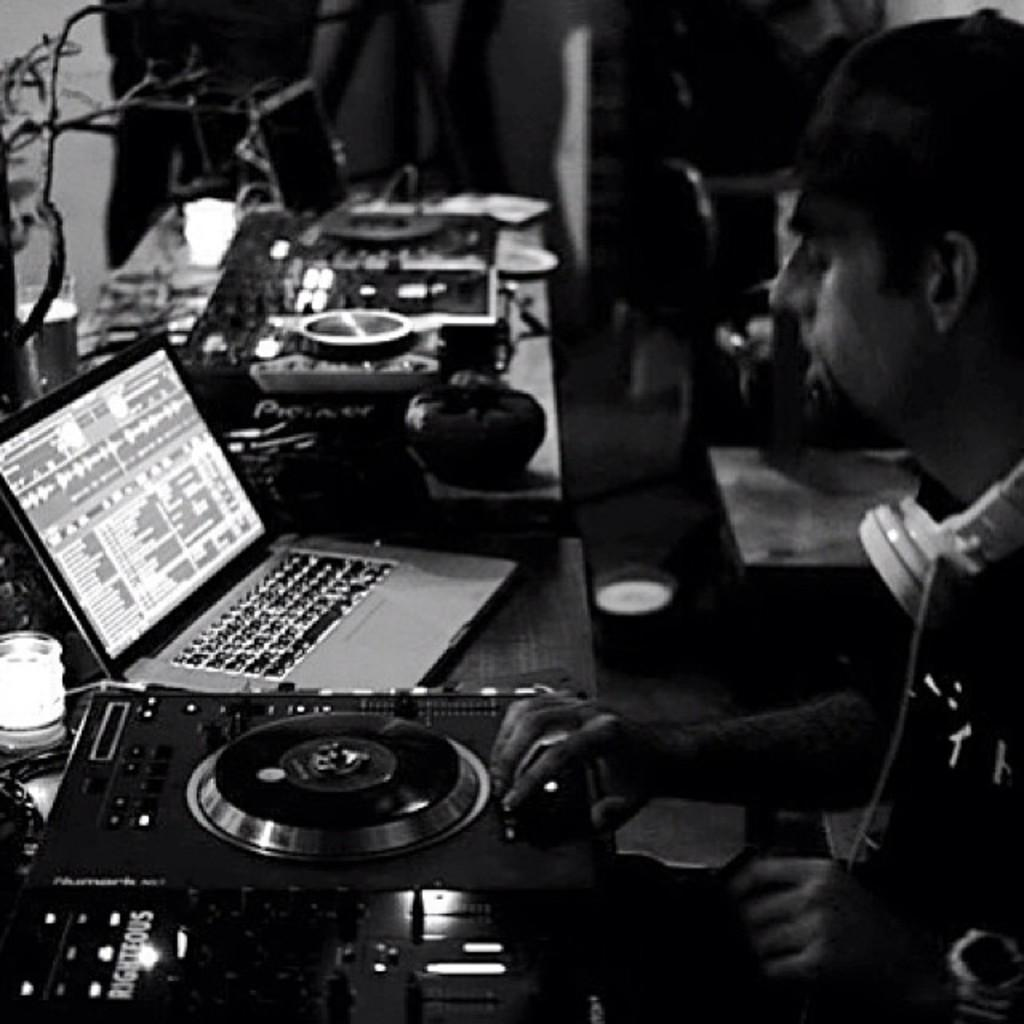Laptop: (34, 330, 560, 749)
